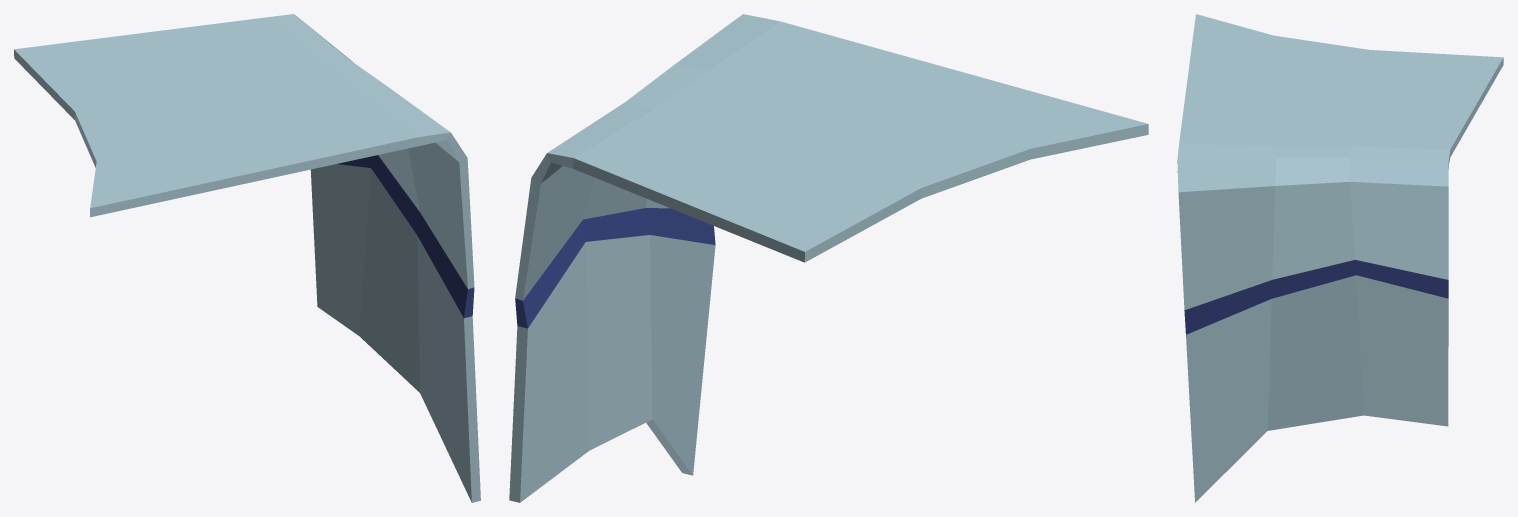
The model's file is Kitchen_Towel.fbx.
3 renders of one model, left to right at view 1: azimuth 30°, elevation 25°; view 2: azimuth 150°, elevation 25°; view 3: azimuth 270°, elevation 25°, orthographic. The views are drawn at different scales.
Visible parts, largest first — view 1: Kitchen_Towel; view 2: Kitchen_Towel; view 3: Kitchen_Towel.
Part boxes in pixels (x1,y1,x2,y2): Kitchen_Towel: (14, 14, 480, 502); Kitchen_Towel: (509, 14, 1148, 502); Kitchen_Towel: (1177, 14, 1503, 502).
Bounding box in the file's own units: 35.71 × 33.94 × 30.52.
